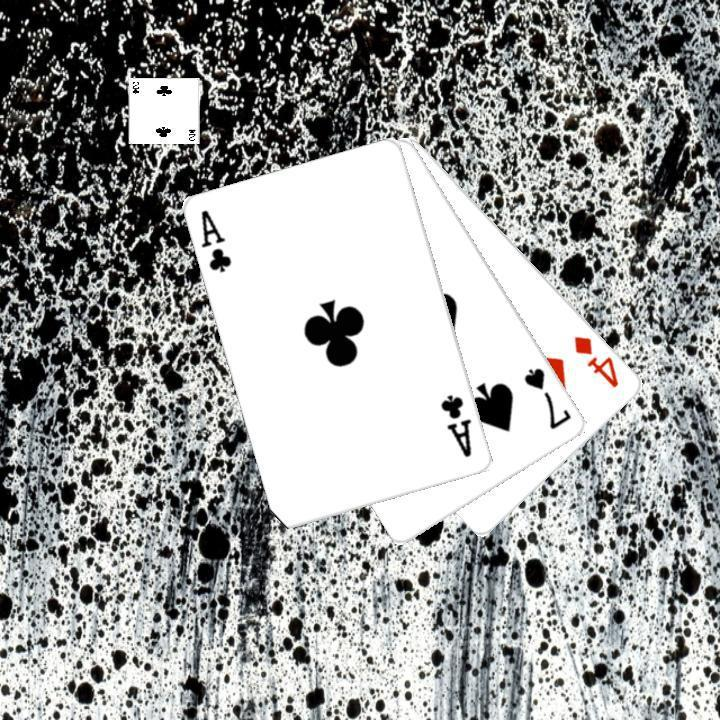4: (570, 331, 622, 390)
7: (520, 363, 574, 432)
A: (436, 391, 474, 460), (197, 206, 234, 275)
